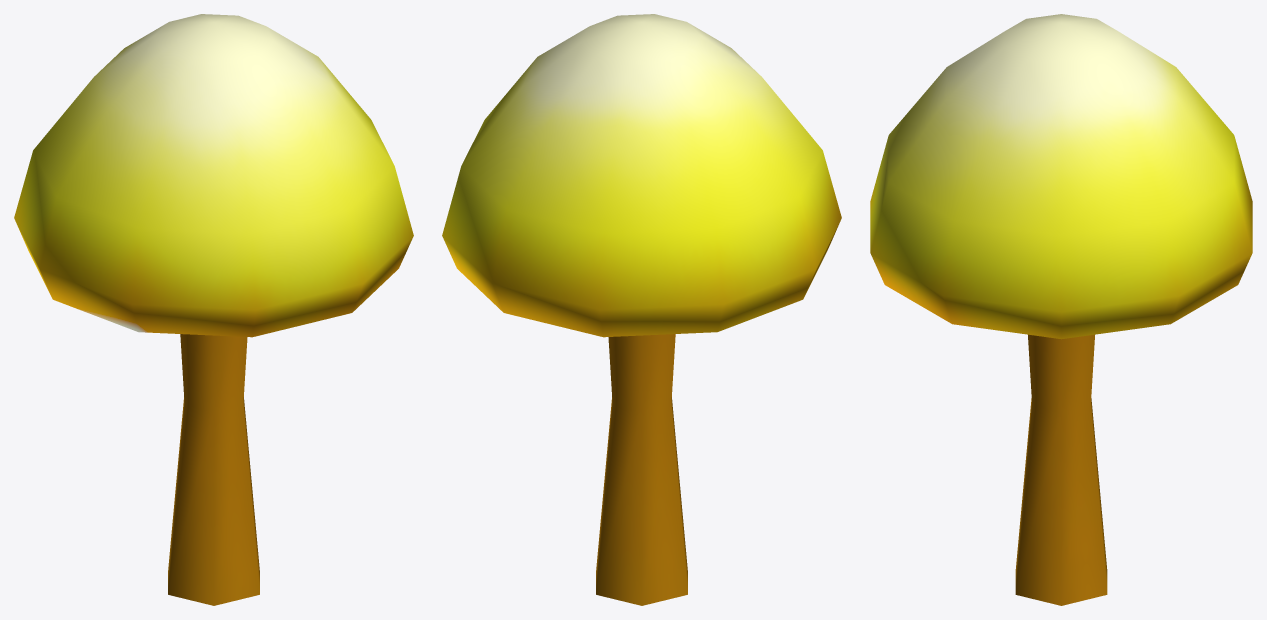
File: Avatar_mushroom_02.fbx
The picture shows the model from 3 angles, left to right: view 1: azimuth 30°, elevation 25°; view 2: azimuth 150°, elevation 25°; view 3: azimuth 270°, elevation 25°; orthographic projection.
Visible parts, largest first — view 1: Avatar_mushroom_02; view 2: Avatar_mushroom_02; view 3: Avatar_mushroom_02.
Boxes of the visible parts, x1,y1,x2,y2 form: Avatar_mushroom_02: (14, 14, 413, 605); Avatar_mushroom_02: (442, 14, 841, 605); Avatar_mushroom_02: (870, 14, 1252, 605).
Bounding box in the file's own units: 28.98 × 44.64 × 27.56.
